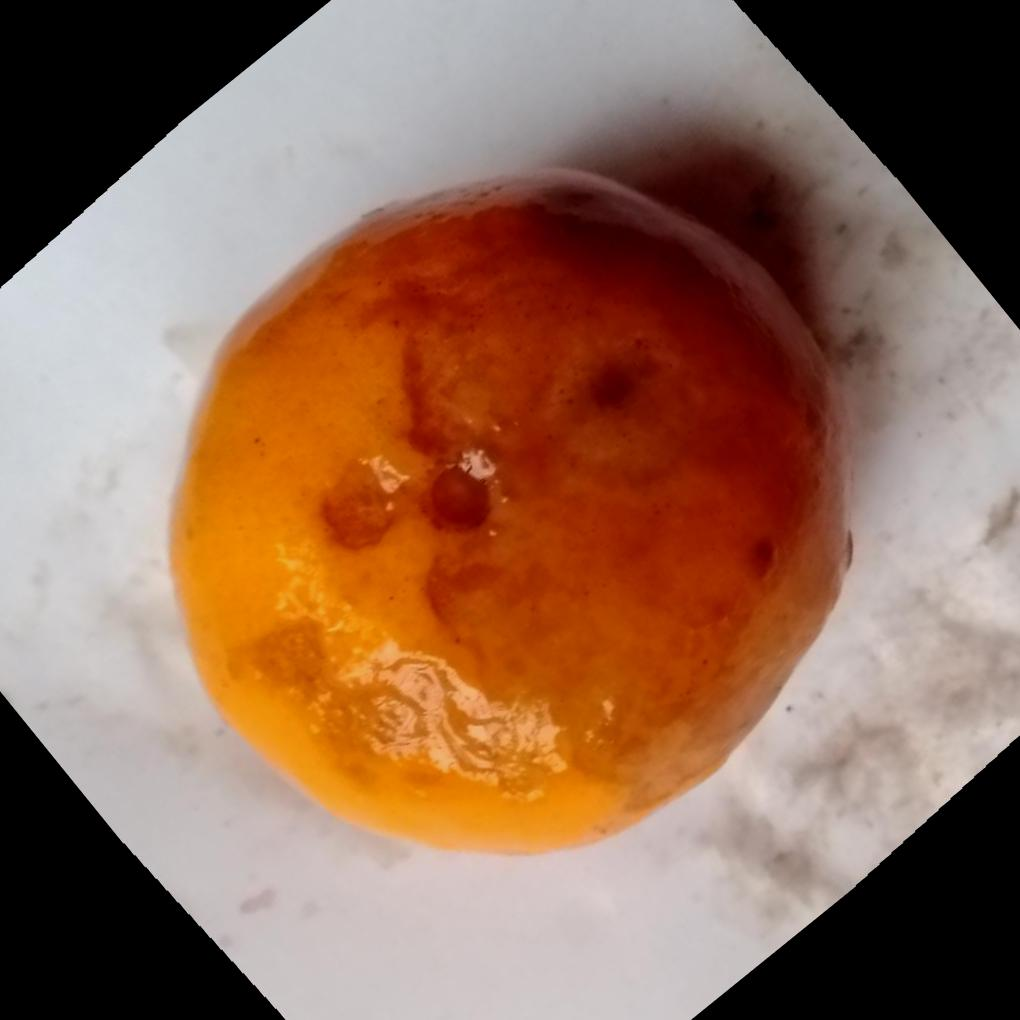FreshOrange: (170, 162, 857, 856)
